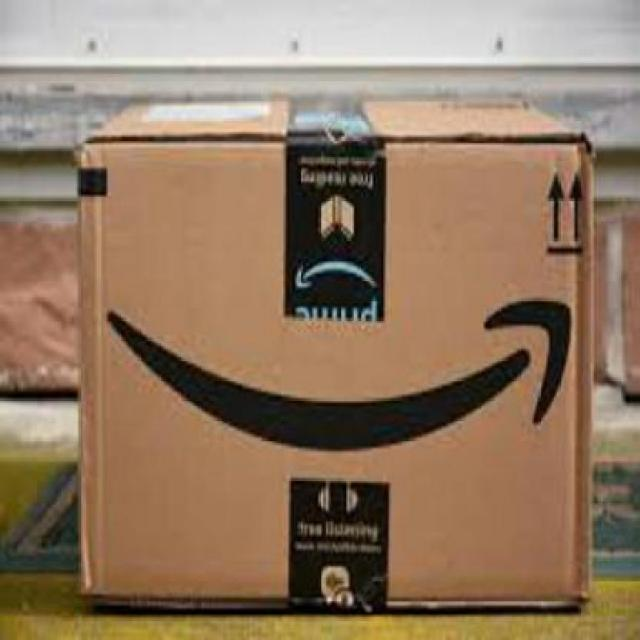box: (72, 93, 601, 615)
